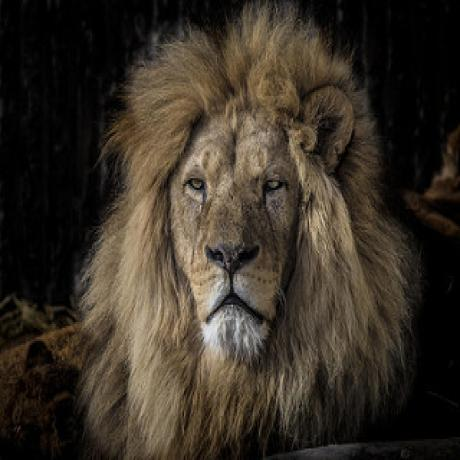Lion: (70, 1, 424, 460)
